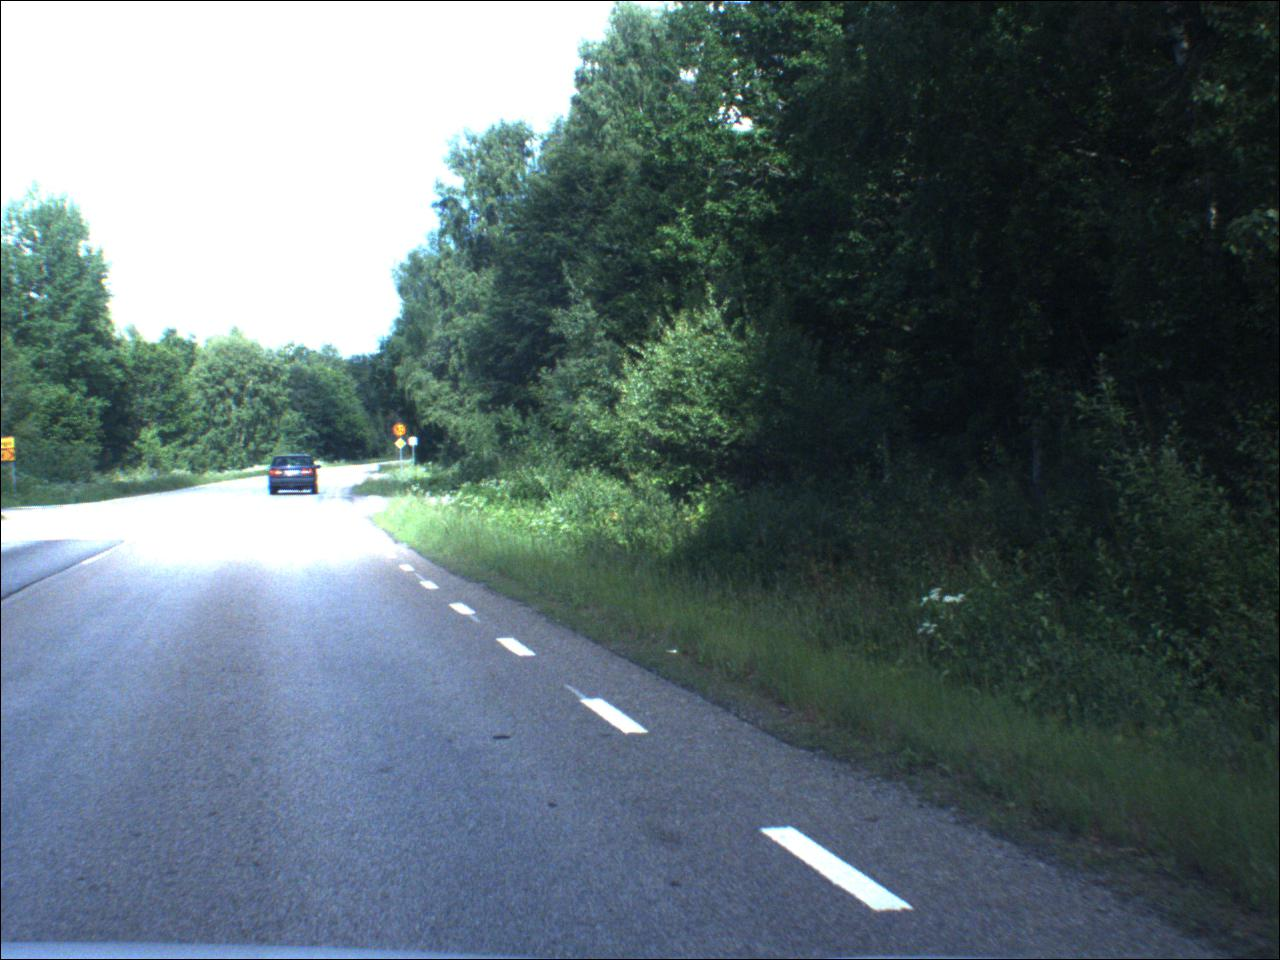80_SIGN: (394, 423, 409, 438)
PRIORITY_ROAD: (396, 439, 410, 453)
